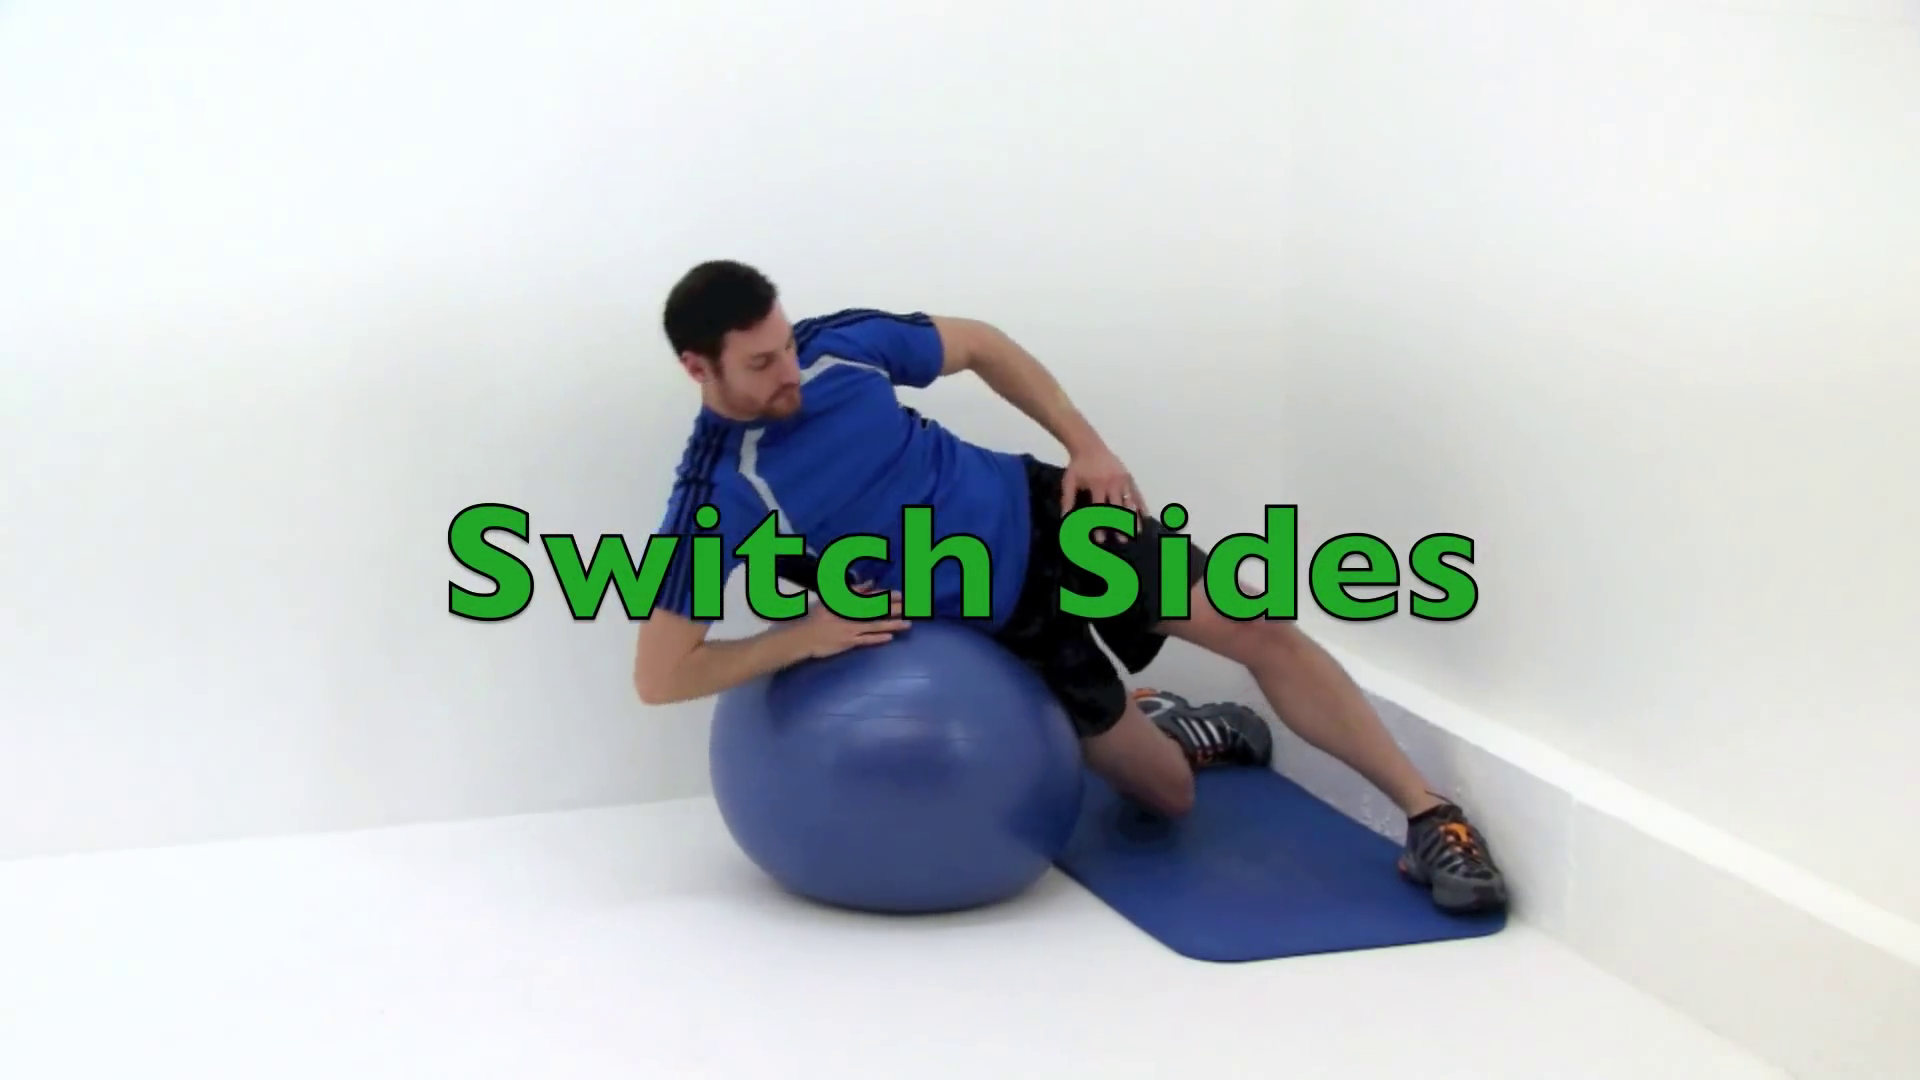yogaball: (705, 624, 1100, 927)
